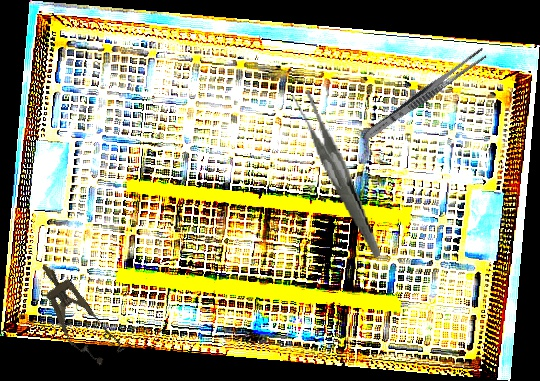Dressing Forceps: (291, 83, 381, 265), (359, 45, 489, 145)
Speculum: (25, 253, 127, 373)
